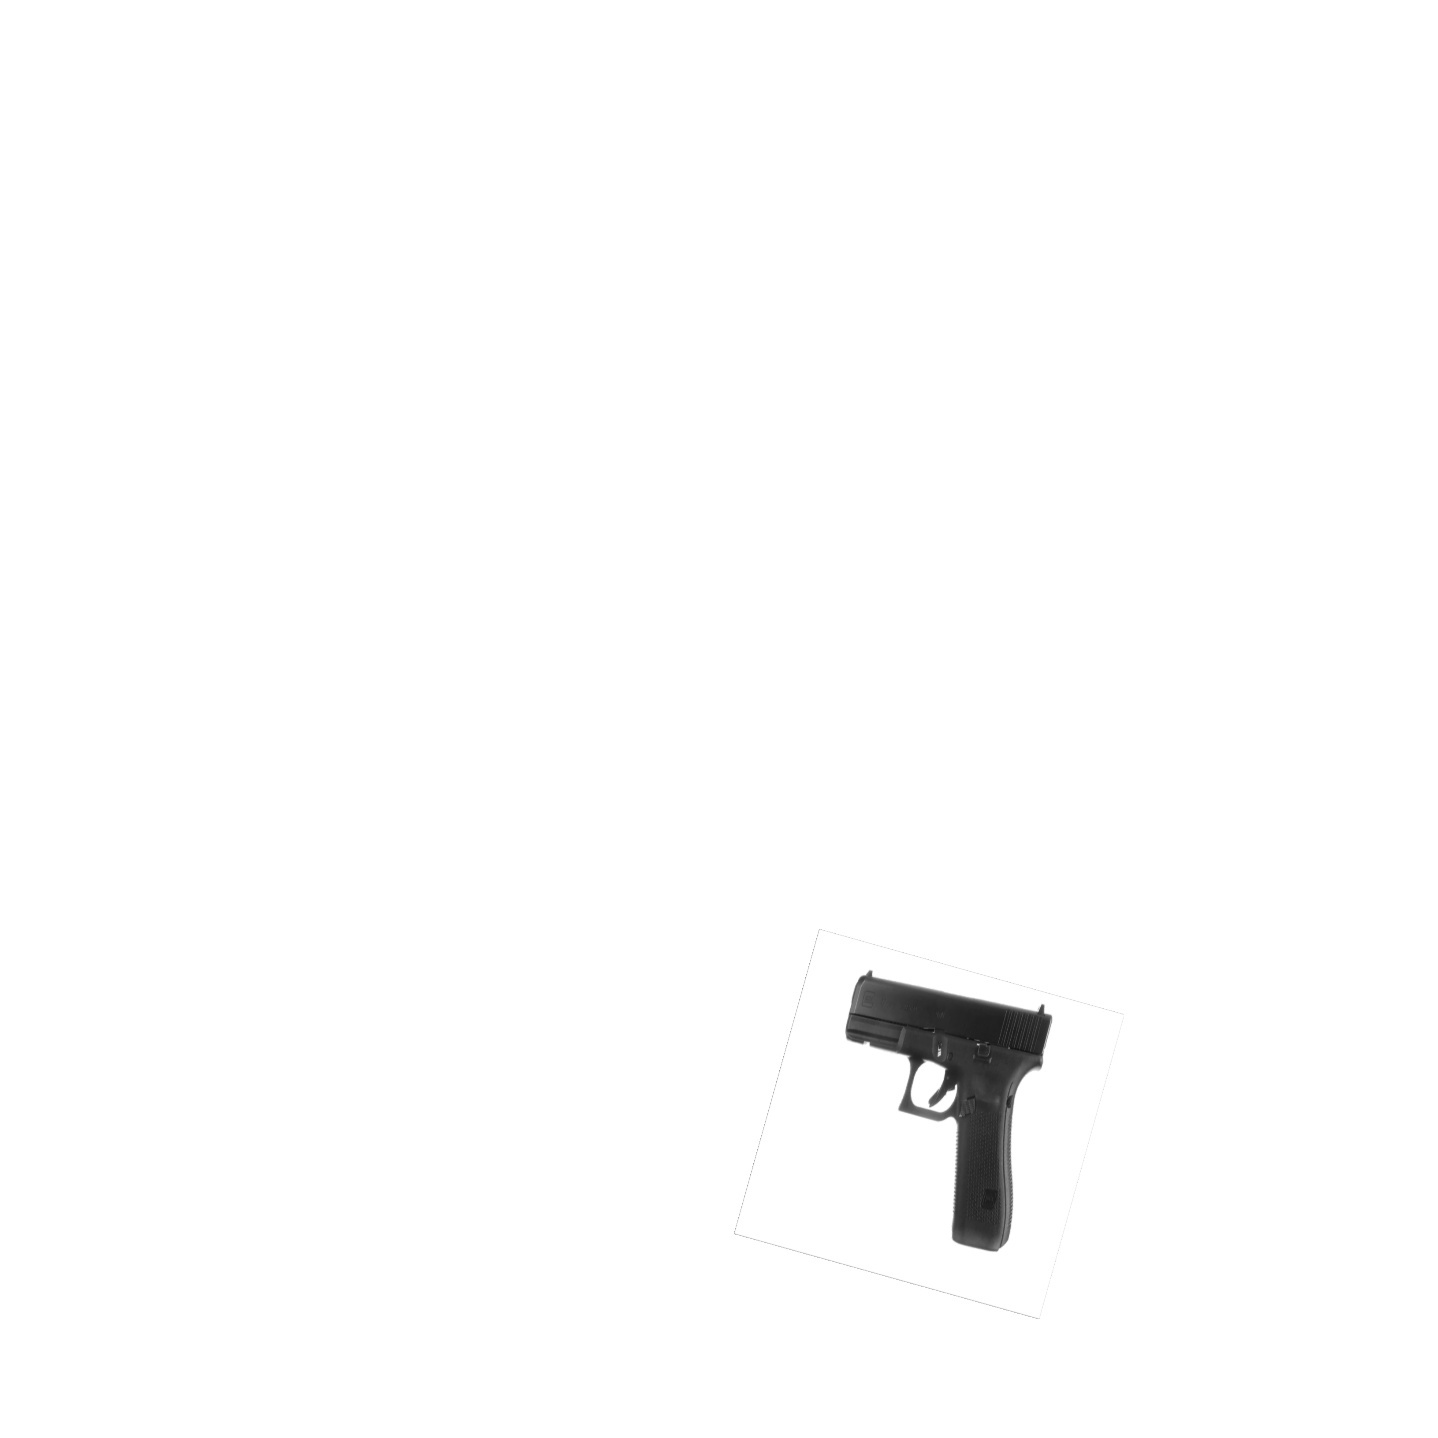gun: (841, 969, 1053, 1250)
